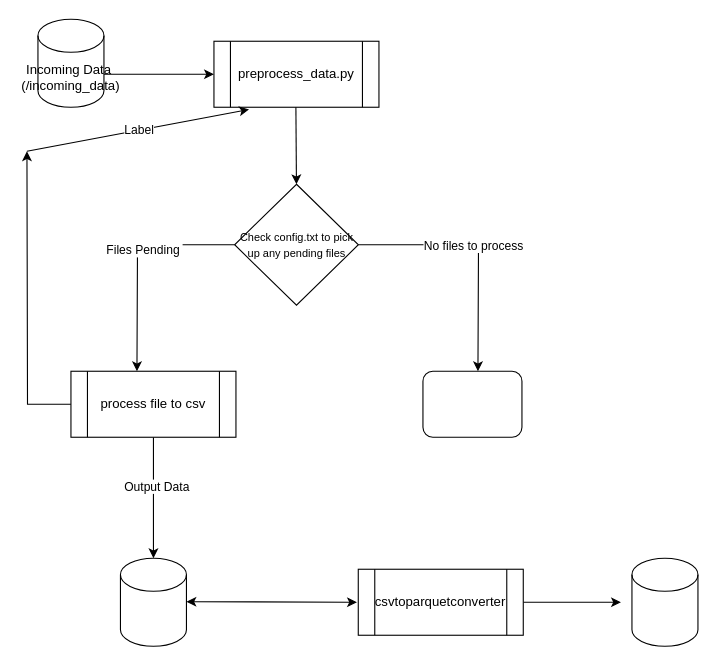
This 717x666 diagram has some shape labels left out. Here are the shapes that lost their labels. From the top down, the centre of each, then its label:
At [472,403]: "STOP".
At [152,601]: "processed".
At [664,601]: "parquet".
